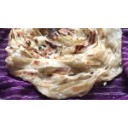parota: (8, 26, 122, 98)
